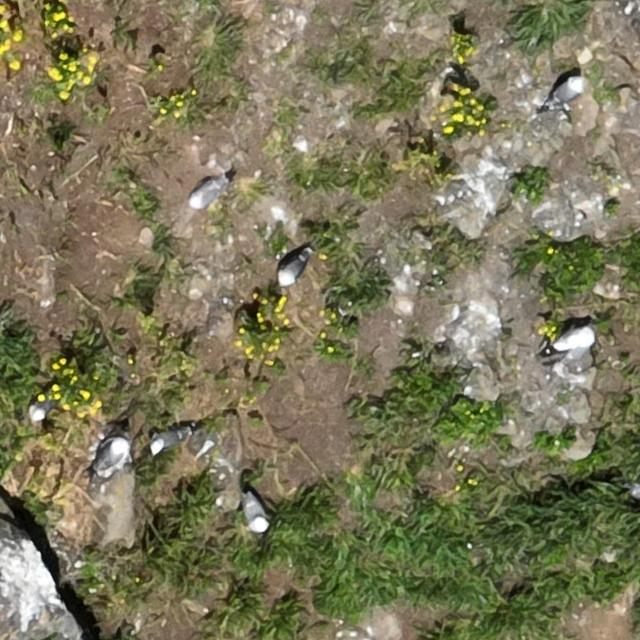umineko: (545, 326, 597, 361), (190, 180, 222, 208), (242, 495, 266, 532), (102, 438, 130, 469), (281, 256, 307, 284), (151, 430, 185, 451), (554, 79, 581, 103), (32, 397, 50, 419), (629, 481, 639, 498)
